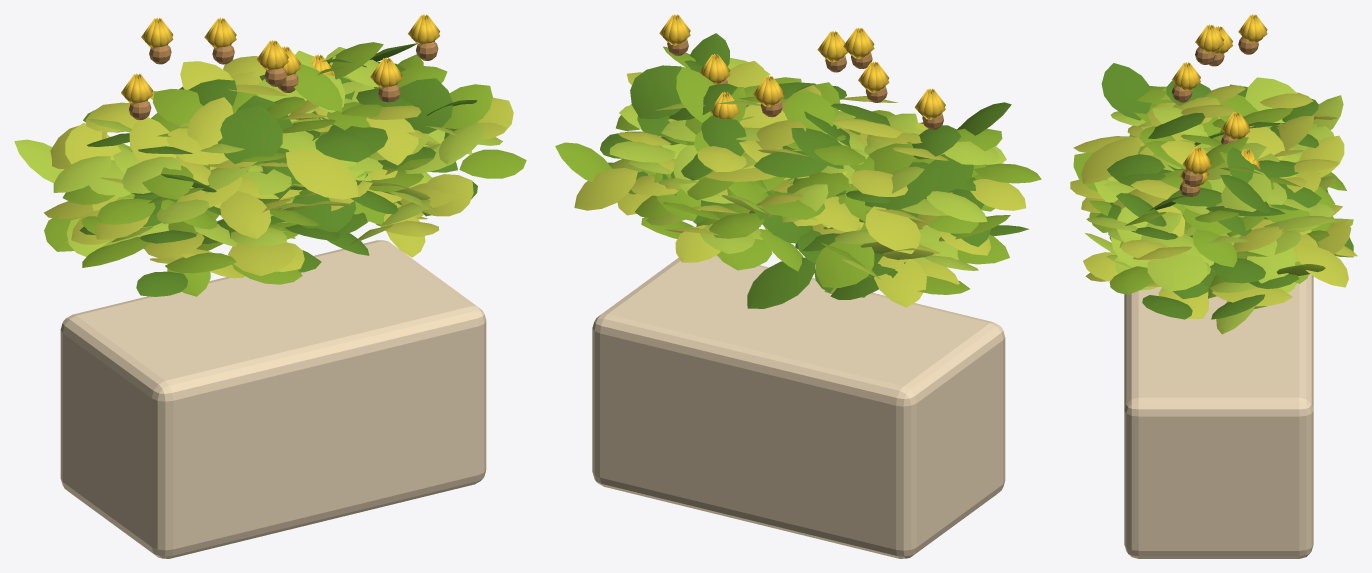
File: FullPlanter.fbx
The picture shows the model from 3 angles, left to right: view 1: azimuth 30°, elevation 25°; view 2: azimuth 150°, elevation 25°; view 3: azimuth 270°, elevation 25°; orthographic projection. The views are drawn at different scales.
Parts seen in each view (by area): view 1: FullPlanter.001; view 2: FullPlanter.001; view 3: FullPlanter.001.
Part boxes in pixels (bbox=[...]): FullPlanter.001: bbox=[14, 14, 526, 558]; FullPlanter.001: bbox=[555, 14, 1041, 558]; FullPlanter.001: bbox=[1070, 14, 1357, 558].
Bounding box in the file's own units: 1.38 × 1.54 × 0.9123.
